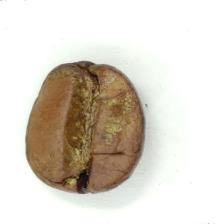NG: (56, 68, 132, 168)
